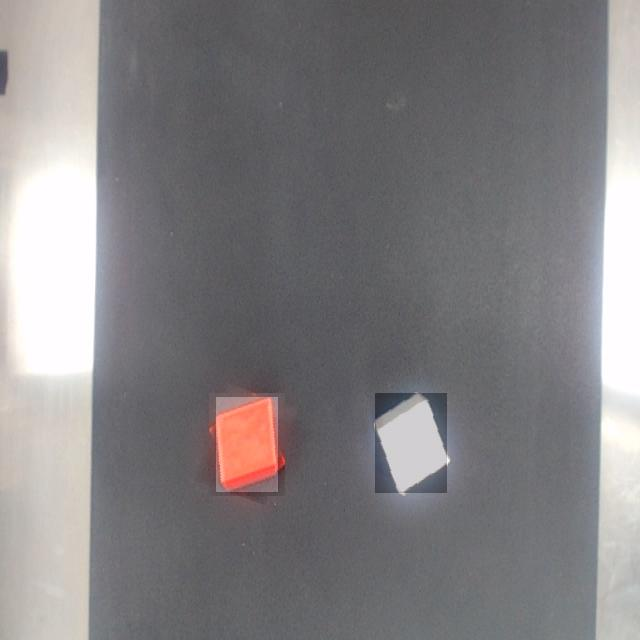Blanco: (375, 393, 447, 493)
Rojo: (216, 398, 278, 492)
